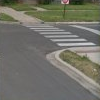crosswalk: (23, 24, 97, 46)
